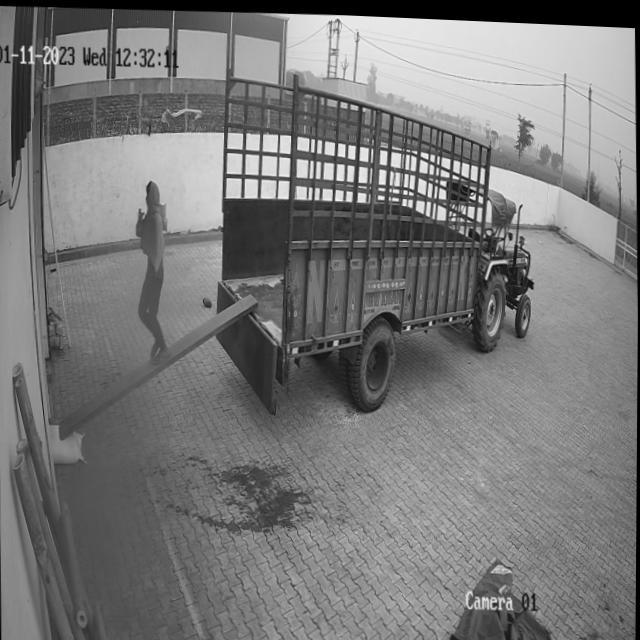sack: (48, 421, 84, 466)
